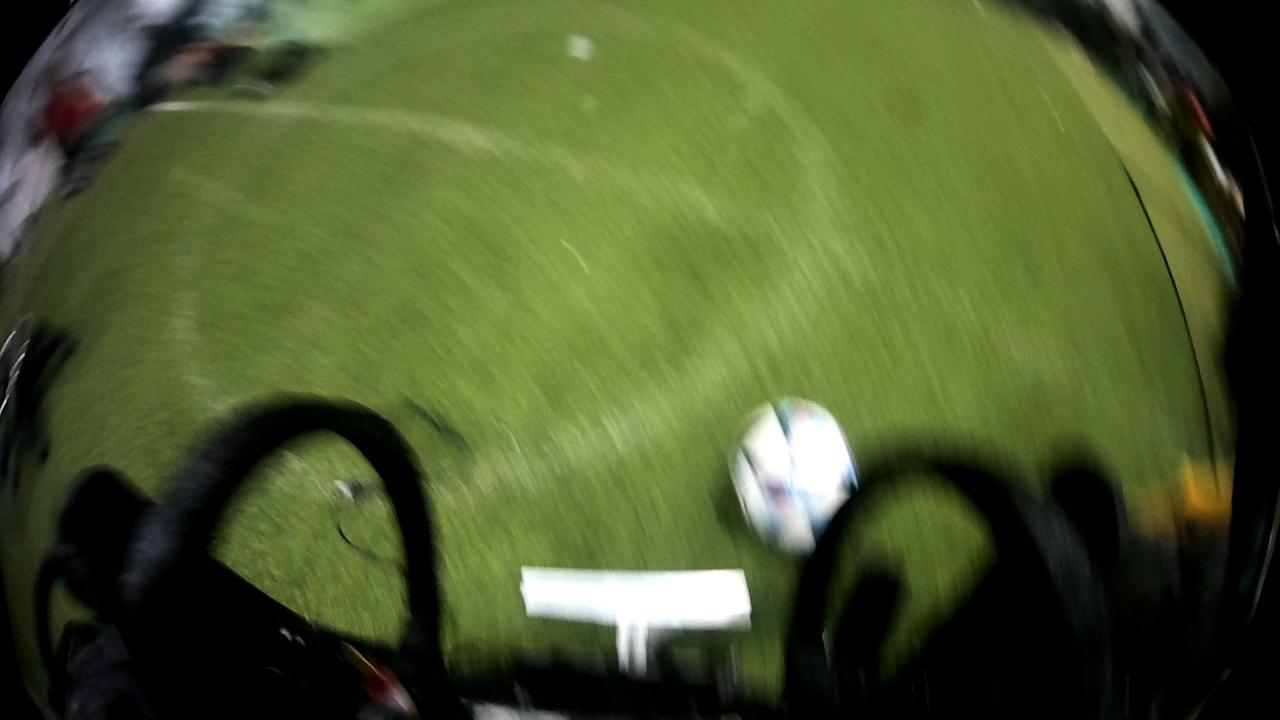ball: (716, 394, 864, 563)
